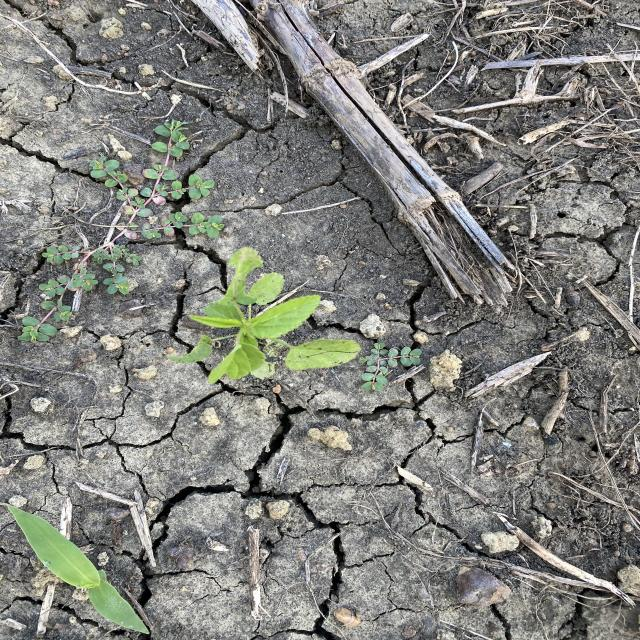PricklySida: (173, 245, 364, 388)
SpottedSpurge: (17, 117, 231, 345), (360, 341, 424, 396)
